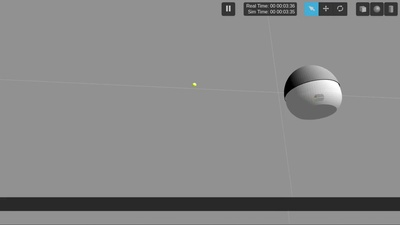mira_robot: (284, 64, 343, 120)
